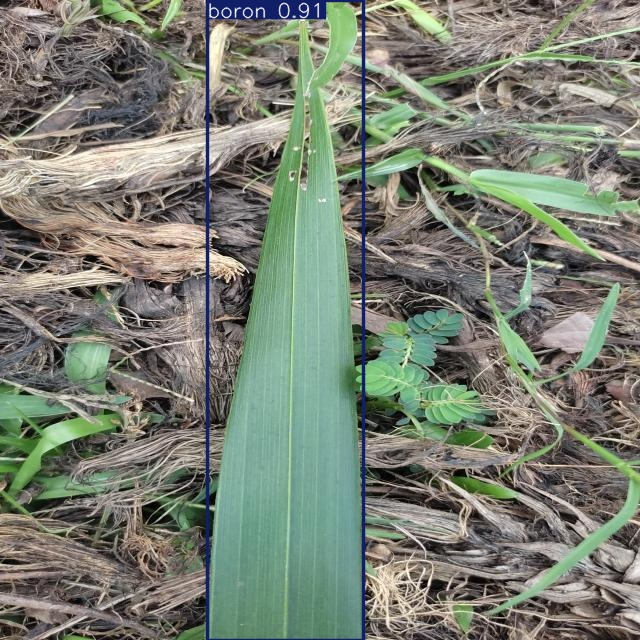nitrogen: (208, 0, 363, 640)
